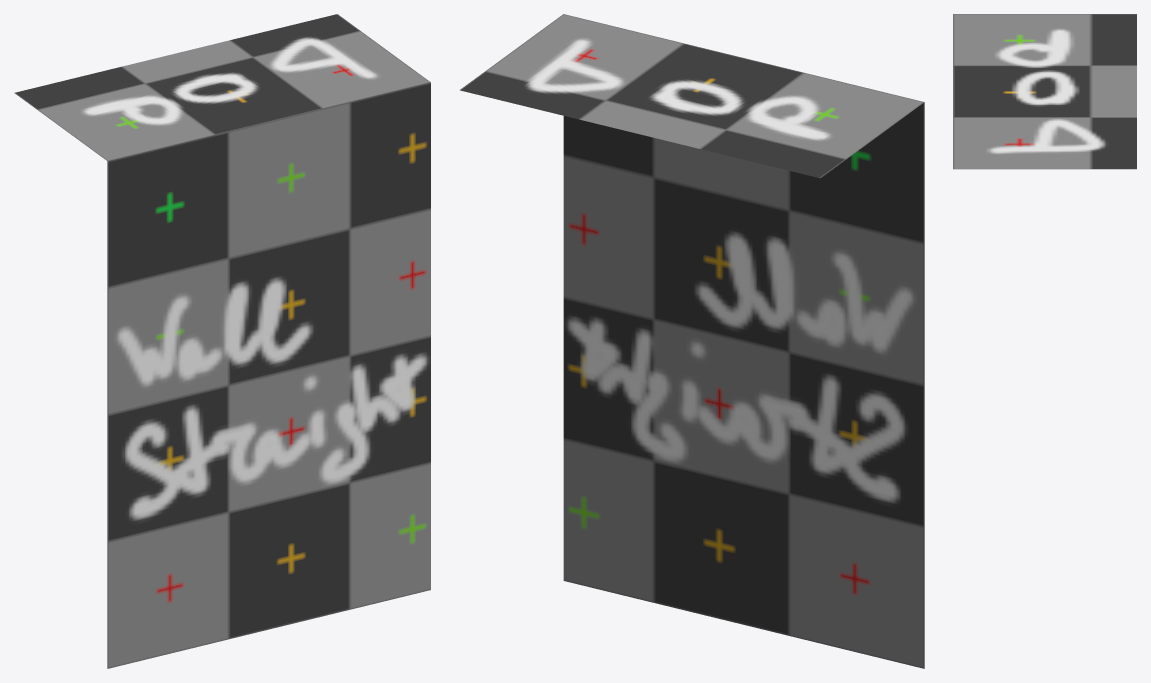
The model's file is Wall_1x2x3_Straight_Test.fbx.
The picture shows the model from 3 angles, left to right: view 1: azimuth 30°, elevation 25°; view 2: azimuth 150°, elevation 25°; view 3: azimuth 270°, elevation 25°; orthographic projection. The views are drawn at different scales.
Parts seen in each view (by area): view 1: Wall_1x2x3_Straight_Test; view 2: Wall_1x2x3_Straight_Test; view 3: Wall_1x2x3_Straight_Test.
Part boxes in pixels (box(x1,y1,x2,y2)): Wall_1x2x3_Straight_Test: box(14, 14, 430, 668); Wall_1x2x3_Straight_Test: box(460, 14, 924, 668); Wall_1x2x3_Straight_Test: box(953, 14, 1136, 169).
Size of the model in its own units: 2 by 1 by 3.
Materials: 1 (1 with a texture image).
